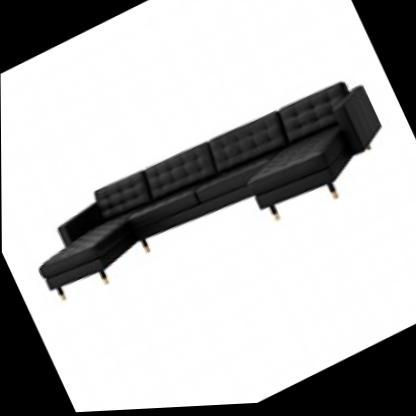Sofa: (2, 44, 410, 351)
